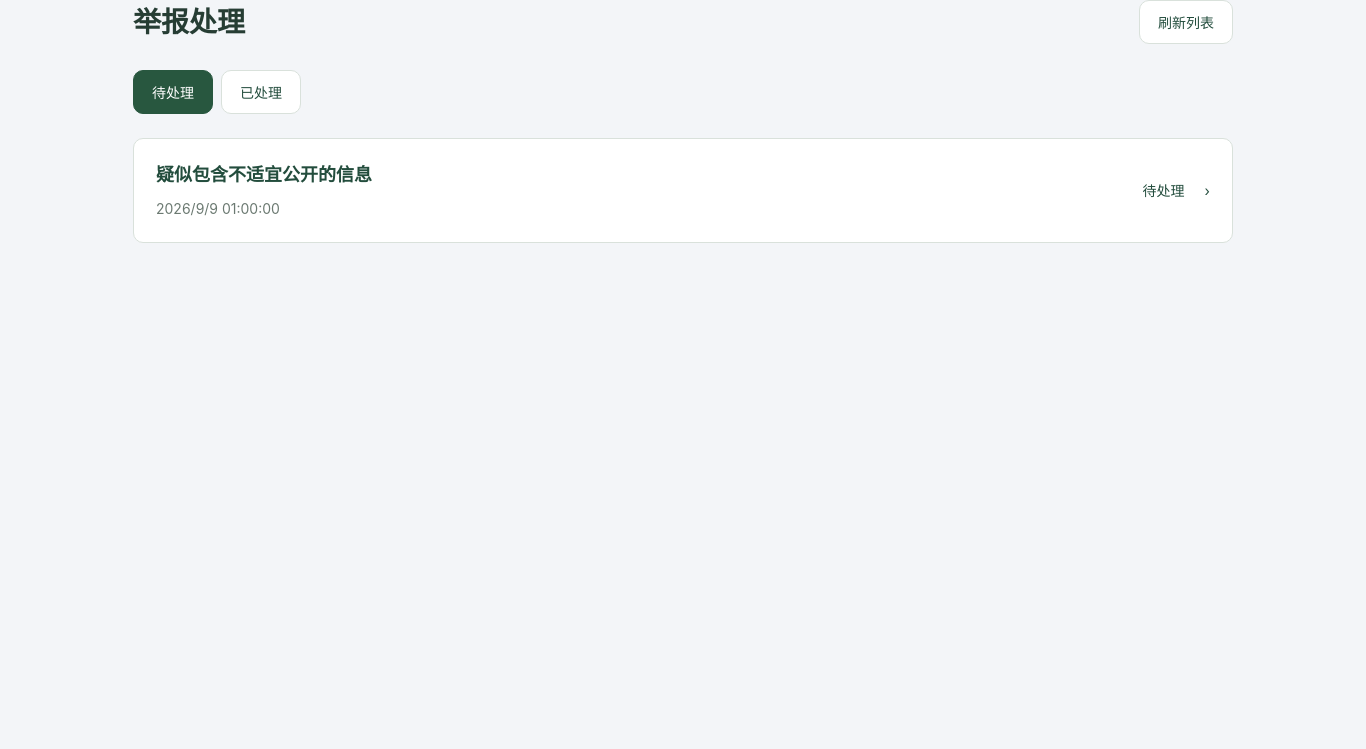
Test: 举报不成立可以仅记录结论，未知响应沿用原处理请求
This screenshot has width=1366, height=749.
Step 1. Click the button "疑似包含不适宜公开的信息 2026/9/9 01:00:00 待处理 ›" → (264, 174), box [133,138,1233,243]
(page scrolled)
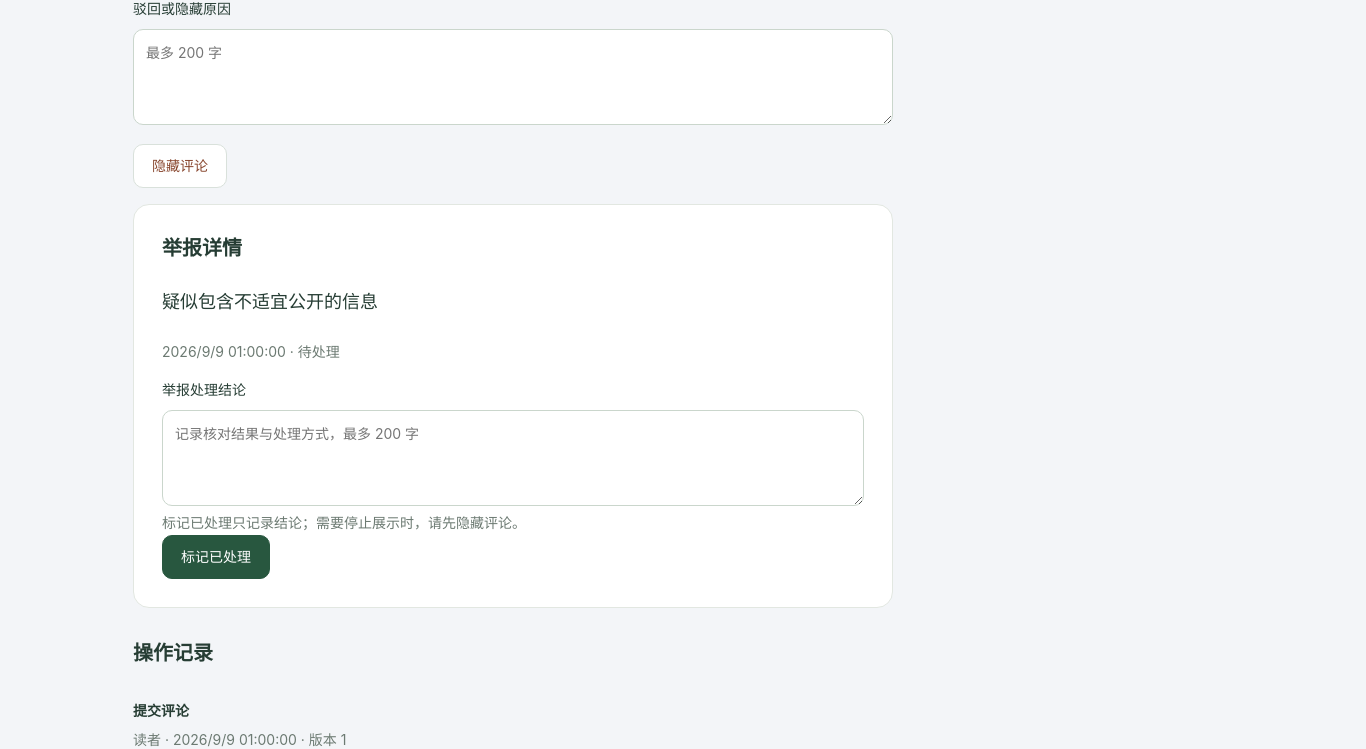
Expected: the element "举报详情" is shown, [133,204,893,608]
Step 2. Type "未发现违规，保留展示" into the text box labelled "举报处理结论" → (513, 458), box [162,410,864,506]
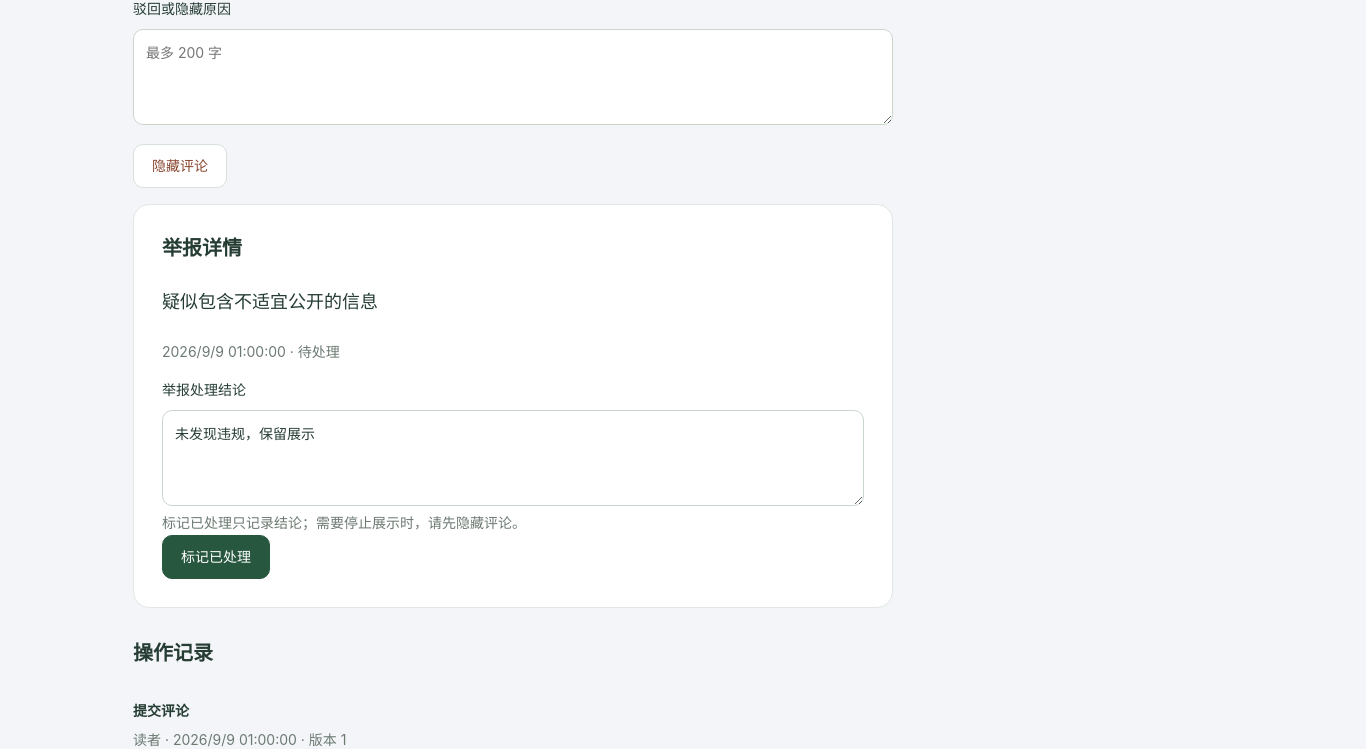
Step 3. Click the button "标记已处理" → (216, 557), box [162,535,270,579]
(page scrolled)
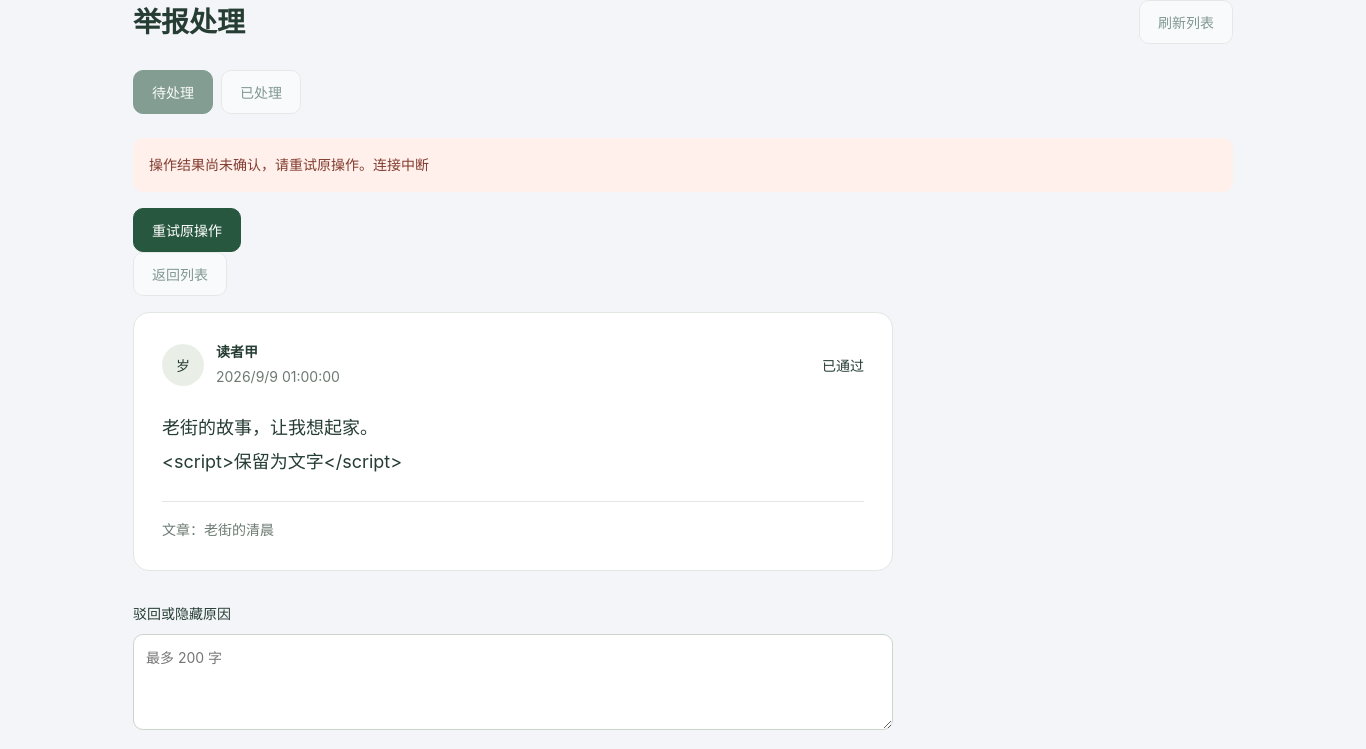
Expected: the button "重试原操作" is enabled
Step 4. Click the button "重试原操作" → (187, 230), box [133,208,241,252]
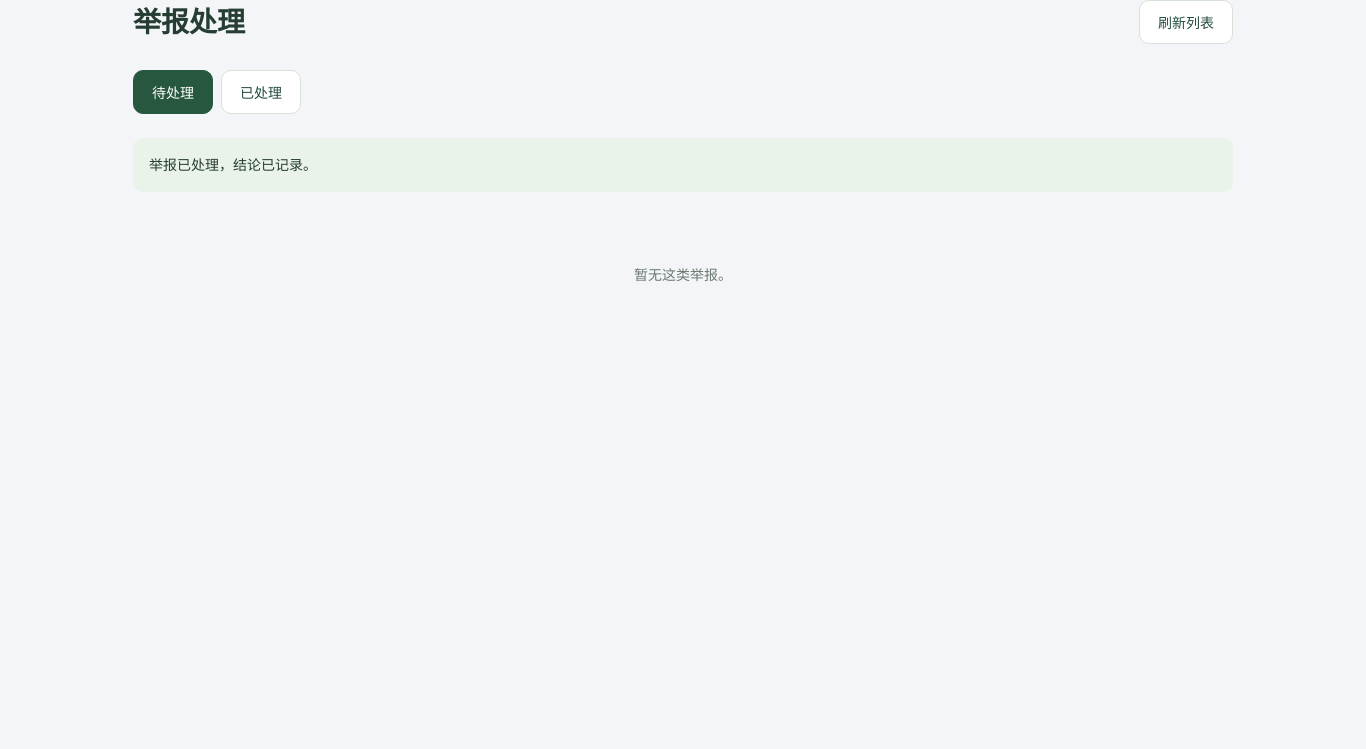
Expected: the text "举报已处理，结论已记录。" is shown, [133,138,1233,192]
